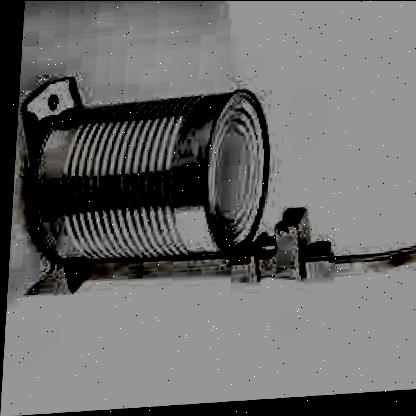Can: (25, 83, 275, 273)
